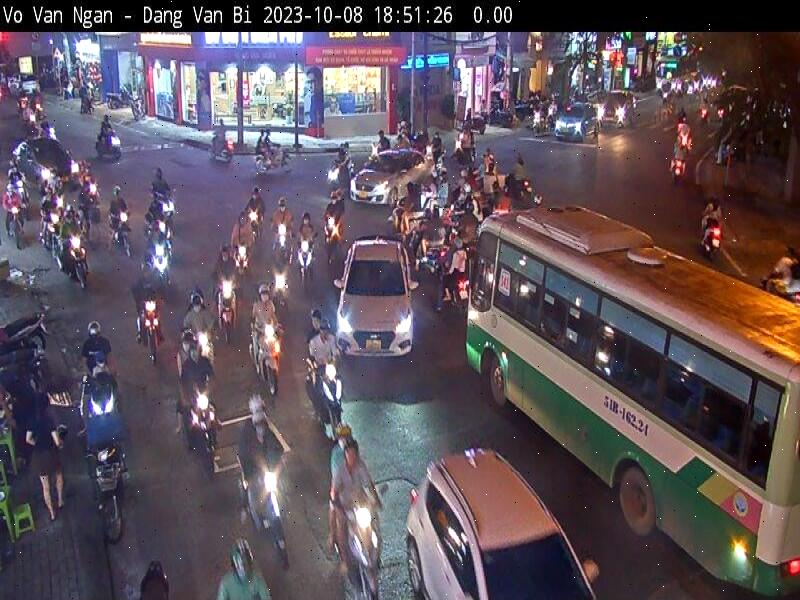bus: (464, 202, 800, 600)
car: (405, 443, 601, 600), (336, 238, 414, 359), (350, 147, 431, 205), (551, 102, 603, 142)
motorcycle: (240, 458, 298, 569), (326, 502, 386, 598), (87, 440, 137, 547), (179, 389, 224, 460), (80, 373, 126, 441), (304, 363, 348, 427), (252, 329, 284, 394), (134, 301, 168, 362), (56, 235, 92, 291), (138, 554, 173, 600), (215, 284, 238, 341), (298, 240, 313, 293)
